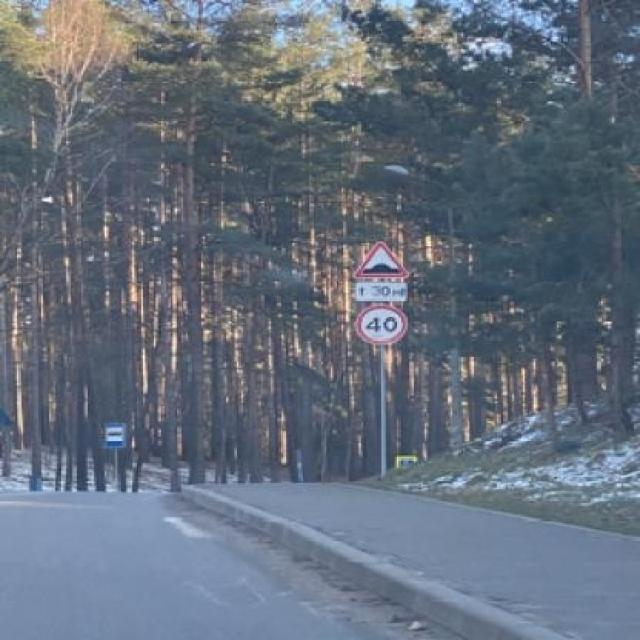forb_speed_over_40: (356, 305, 409, 346)
